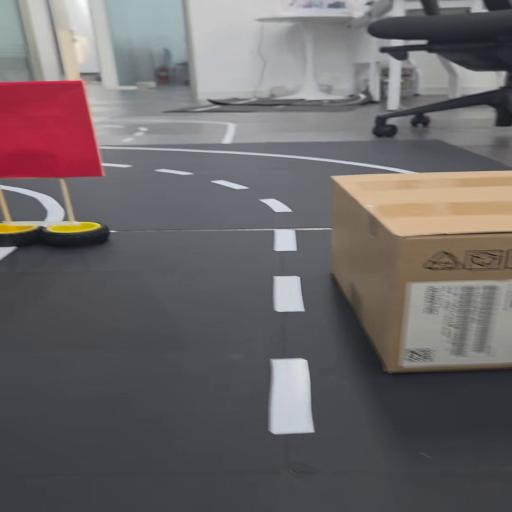Box: (325, 155, 512, 377)
Sign_A: (0, 76, 131, 256)
